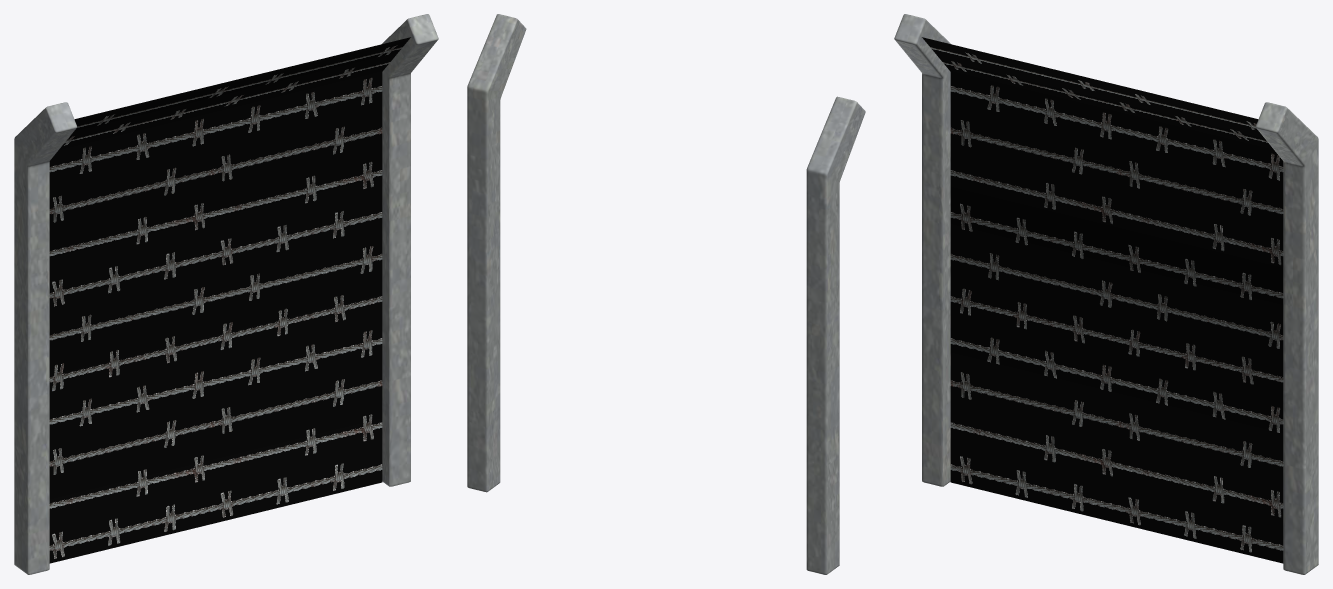
File: BarbWireFence_v01.glb
The picture shows the model from 3 angles, left to right: view 1: azimuth 30°, elevation 25°; view 2: azimuth 150°, elevation 25°; view 3: azimuth 330°, elevation 25°; orthographic projection. The views are drawn at different scales.
Parts seen in each view (by area): view 1: SM_BarbWireFence; view 2: SM_BarbWireFence; view 3: SM_BarbWireFence.
Boxes of the visible parts, box(x1,y1,x2,y2) form: SM_BarbWireFence: box(14, 14, 438, 574); SM_BarbWireFence: box(467, 14, 865, 574); SM_BarbWireFence: box(894, 14, 1318, 574).
Size of the model in its own units: 3.05 by 3.66 by 0.5808.
Materials: 2 (2 with a texture image).
